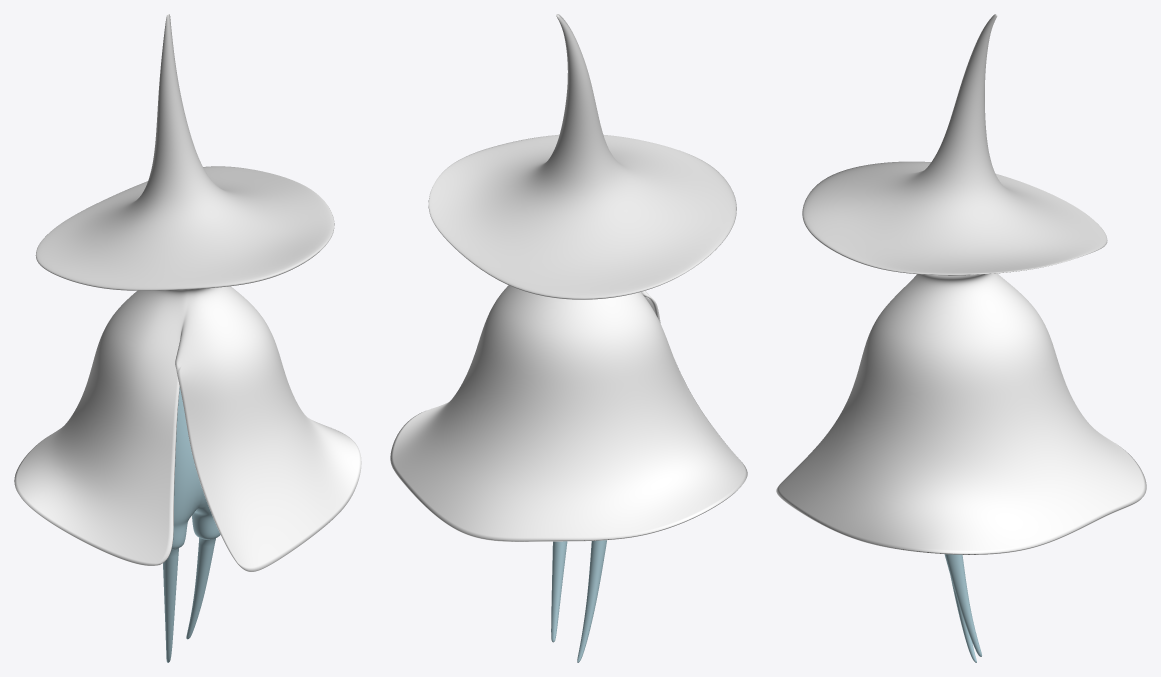
File: Player.fbx
3 views of the same model, side by side, from view 1: azimuth 30°, elevation 25°; view 2: azimuth 150°, elevation 25°; view 3: azimuth 270°, elevation 25° (orthographic). The views are drawn at different scales.
Visible parts, largest first — view 1: cloak.006, head.006, run; view 2: cloak.006, head.006, run; view 3: cloak.006, head.006, run.
Part boxes in pixels (box(x1,y1,x2,y2)): cloak.006: box(14, 286, 361, 572); head.006: box(35, 14, 334, 290); run: box(163, 387, 220, 662); cloak.006: box(390, 285, 747, 541); head.006: box(428, 14, 736, 299); run: box(551, 540, 606, 662); cloak.006: box(776, 273, 1146, 554); head.006: box(802, 14, 1107, 275); run: box(944, 554, 981, 662).
Size of the model in its own units: 4.25 by 4.31 by 8.39.
